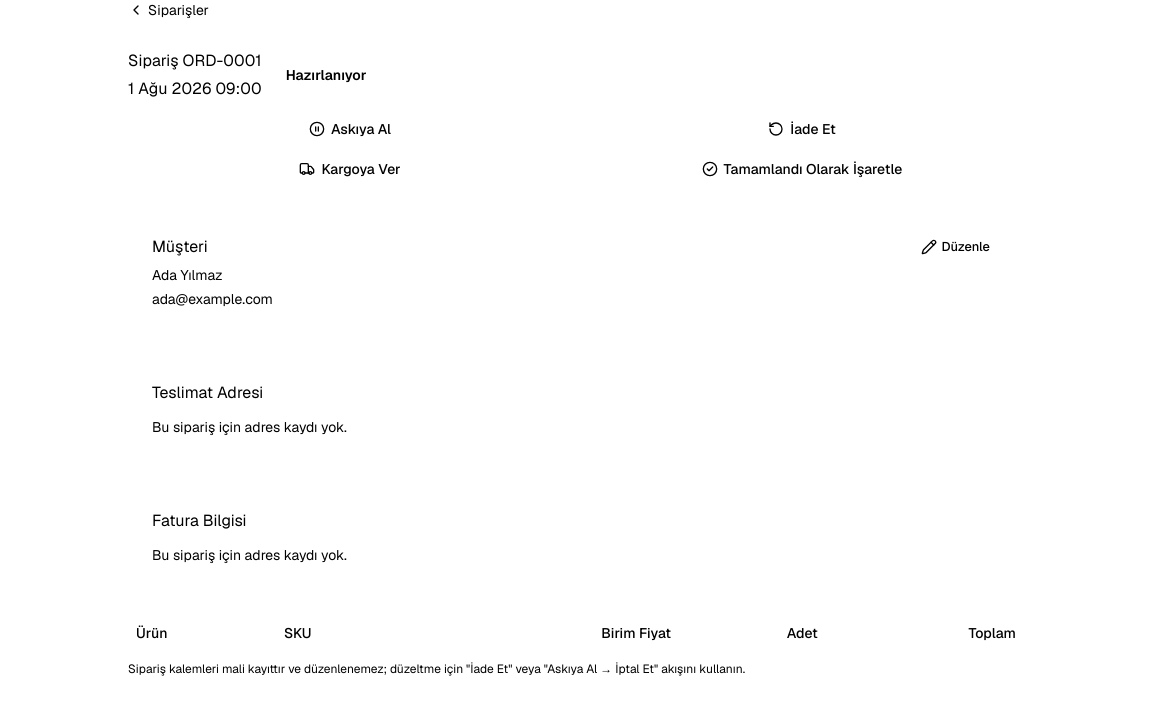
Test: AdminOrderDetailPage — SHIPPED geçişi › PAID sipariş için 'Kargoya Ver' butonu gösterilir, dialog kargo takip no ZORUNLU alanıyla açılır
Expected: the heading "Sipariş ORD-0001" is shown, [128,49,262,73]
Click the button "Kargoya Ver" at (350, 169), box [128,153,572,185]
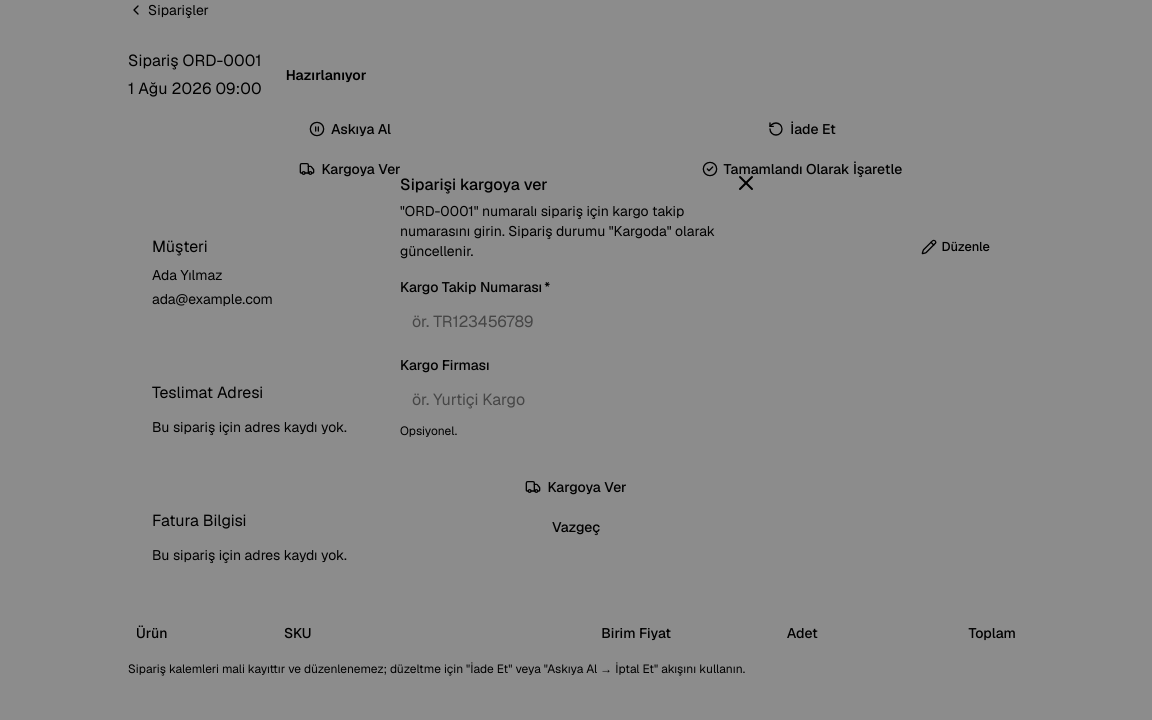
Result: the heading "Siparişi kargoya ver" is shown at [400,174,548,195]
Result: the field labelled "Kargo Takip Numarası*" is shown at [400,303,752,339]
